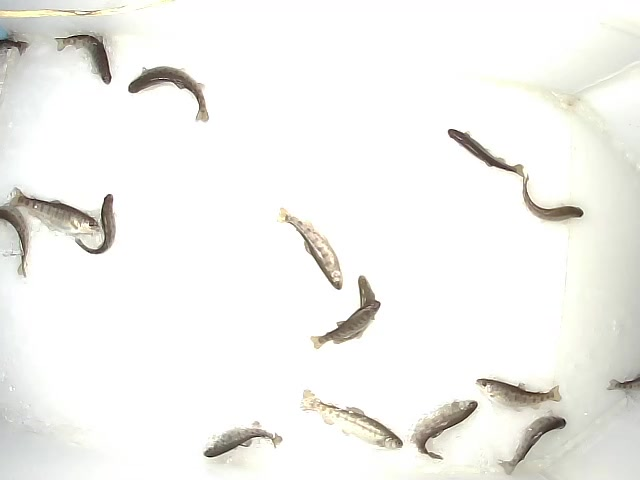fish: (300, 388, 404, 453), (277, 205, 344, 292), (126, 64, 211, 124), (6, 186, 102, 237), (496, 409, 569, 472), (410, 399, 478, 461), (447, 128, 526, 177), (309, 300, 382, 351), (53, 31, 113, 86), (474, 376, 563, 413), (522, 173, 585, 225), (202, 420, 284, 459), (74, 192, 116, 256), (337, 275, 377, 340), (1, 204, 30, 279)
